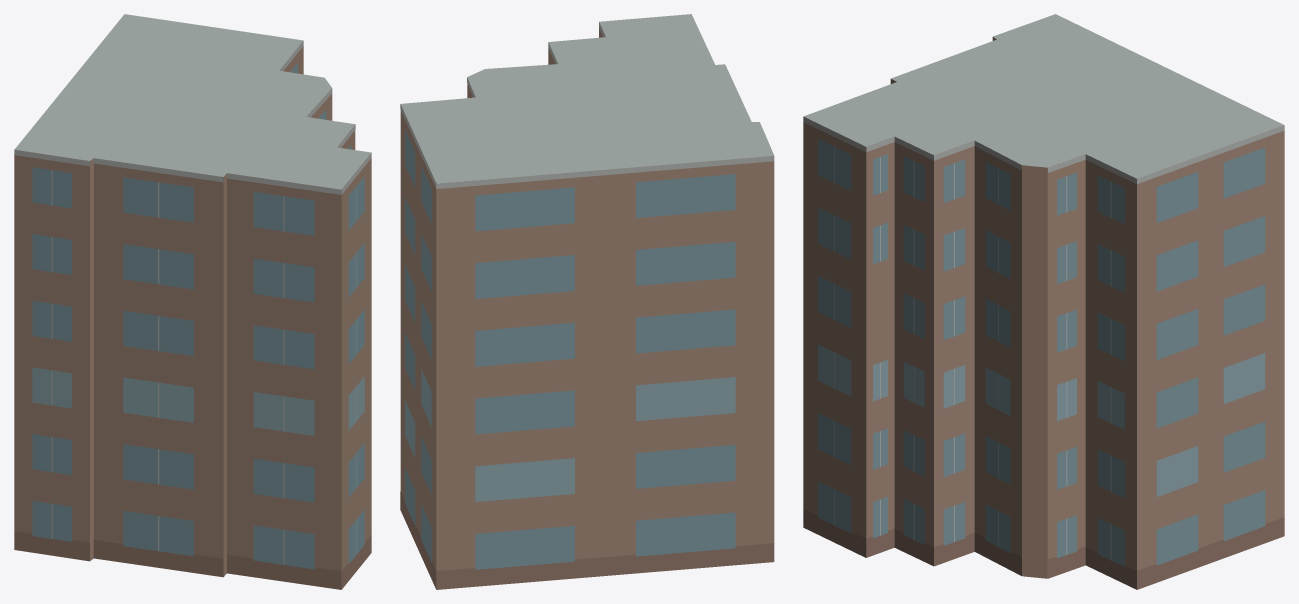
The model's file is survey-upis-32627313.glb.
3 views of the same model, side by side, from view 1: azimuth 30°, elevation 25°; view 2: azimuth 150°, elevation 25°; view 3: azimuth 270°, elevation 25° (orthographic). The views are drawn at different scales.
Visible parts, largest first — view 1: survey-upis-32627313.tmp; view 2: survey-upis-32627313.tmp; view 3: survey-upis-32627313.tmp.
Boxes of the visible parts, x1,y1,x2,y2 form: survey-upis-32627313.tmp: (14,14,371,589); survey-upis-32627313.tmp: (400,14,774,589); survey-upis-32627313.tmp: (803,14,1284,589).
Size of the model in its own units: 15.74 by 18.3 by 19.42.
